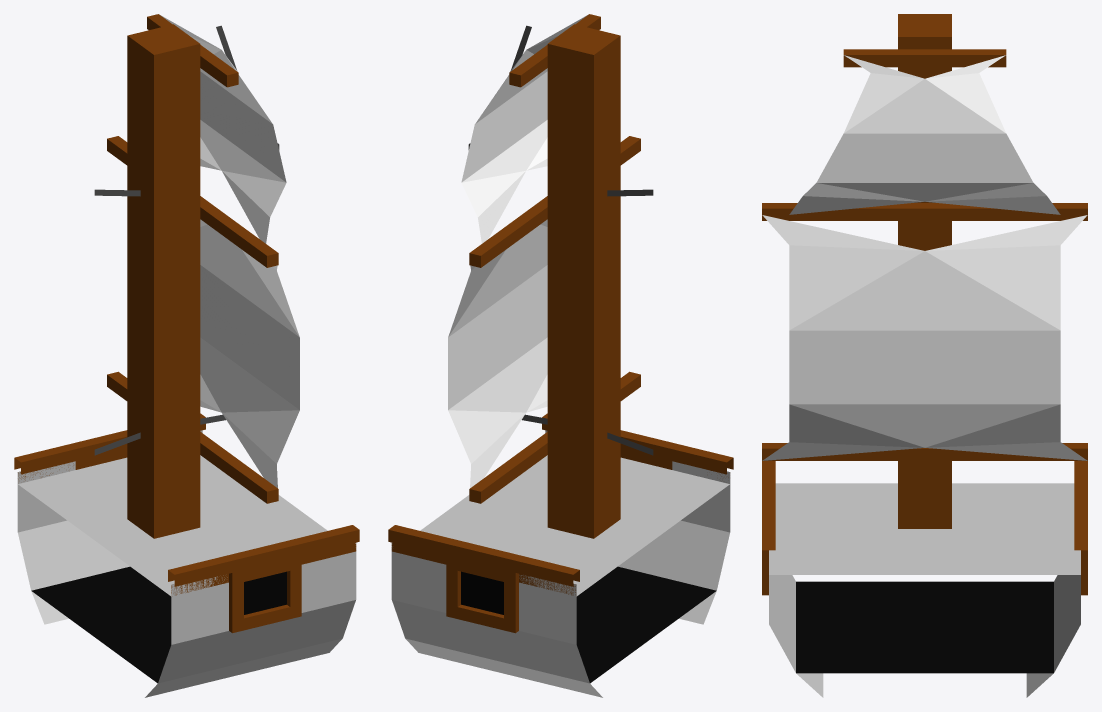
The model's file is Shipmiddle.obj.
The picture shows the model from 3 angles, left to right: view 1: azimuth 30°, elevation 25°; view 2: azimuth 150°, elevation 25°; view 3: azimuth 270°, elevation 25°; orthographic projection.
Parts seen in each view (by area): view 1: Shipmiddle_back; view 2: Shipmiddle_back; view 3: Shipmiddle_back.
Part boxes in pixels (x1,y1,x2,y2): Shipmiddle_back: (14,14,359,697); Shipmiddle_back: (388,14,733,697); Shipmiddle_back: (762,14,1087,697).
Size of the model in its own units: 2.56 by 8 by 3.84.
